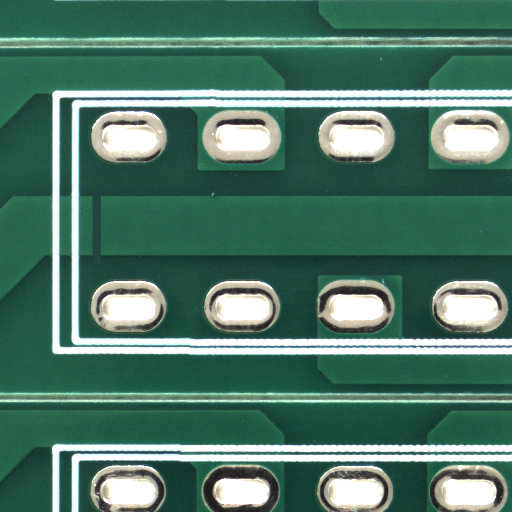Open_circuit: (96, 225, 107, 291)
